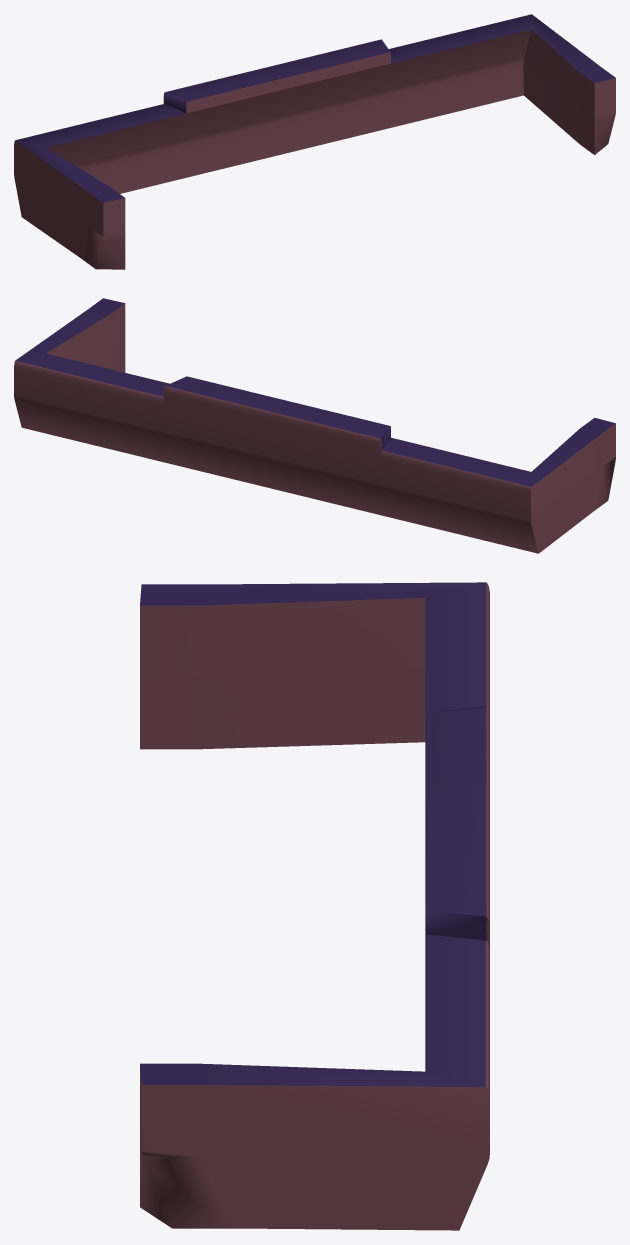
The model's file is barWall.fbx.
3 renders of one model, top to bottom at view 1: azimuth 30°, elevation 25°; view 2: azimuth 150°, elevation 25°; view 3: azimuth 270°, elevation 25°, orthographic. The views are drawn at different scales.
Parts seen in each view (by area): view 1: barWall_Baked; view 2: barWall_Baked; view 3: barWall_Baked.
Boxes of the visible parts, <box> form: barWall_Baked: <box>14,14,615,269</box>; barWall_Baked: <box>14,298,615,553</box>; barWall_Baked: <box>140,582,489,1230</box>.
Size of the model in its own units: 2471 by 381 by 725.
Materials: 1 (1 with a texture image).
